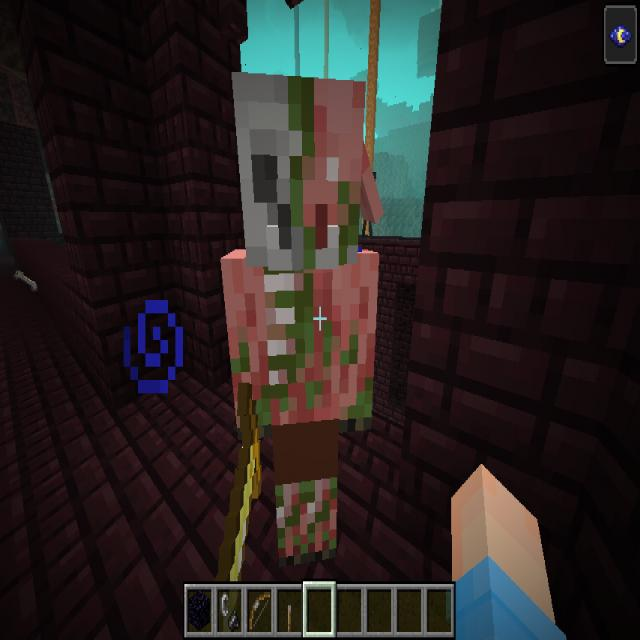Zombified Piglin: (213, 68, 382, 584)
